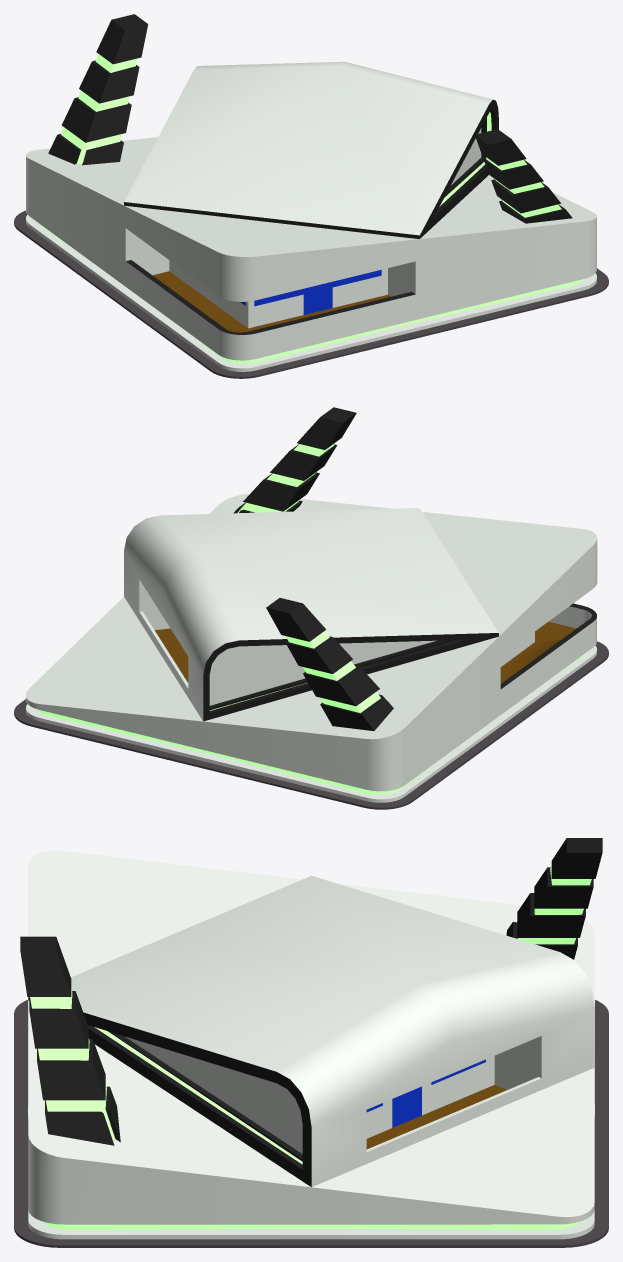
The model's file is SM_B_i9_Roof.fbx.
3 views of the same model, one above another, from view 1: azimuth 30°, elevation 25°; view 2: azimuth 150°, elevation 25°; view 3: azimuth 270°, elevation 25° (orthographic). The views are drawn at different scales.
Parts seen in each view (by area): view 1: SM_B_i9_Roof; view 2: SM_B_i9_Roof; view 3: SM_B_i9_Roof.
Boxes of the visible parts, box(x1,y1,x2,y2) form: SM_B_i9_Roof: box(14, 14, 608, 378); SM_B_i9_Roof: box(14, 407, 608, 809); SM_B_i9_Roof: box(14, 838, 608, 1247).
Size of the model in its own units: 2100 by 885 by 2100.
